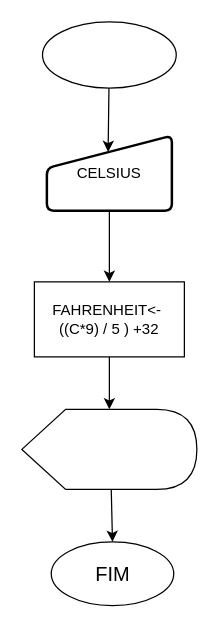
The diagram is 219 pixels wide and 628 high, and some of its shapes have lost their labels. The box of each missing label's shape, as (x1, y1, x2, y2) in pixels:
FAHRENHEIT: (21, 408, 197, 489)
INICIO: (41, 21, 176, 88)
